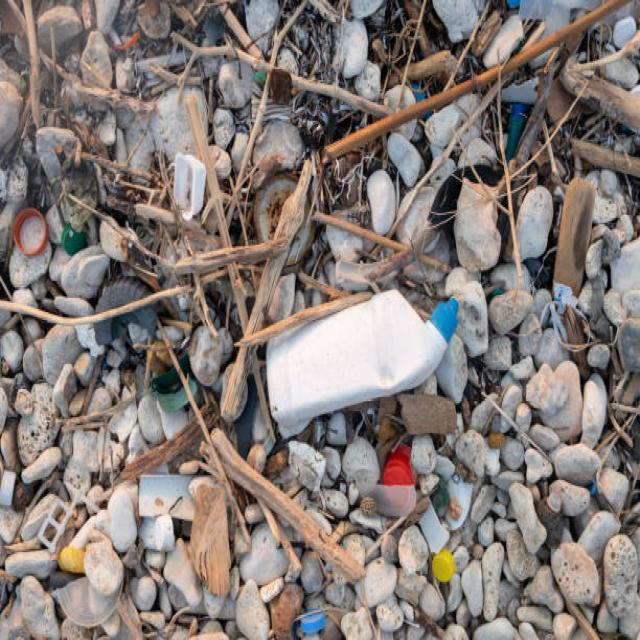plastic: (234, 288, 582, 446)
